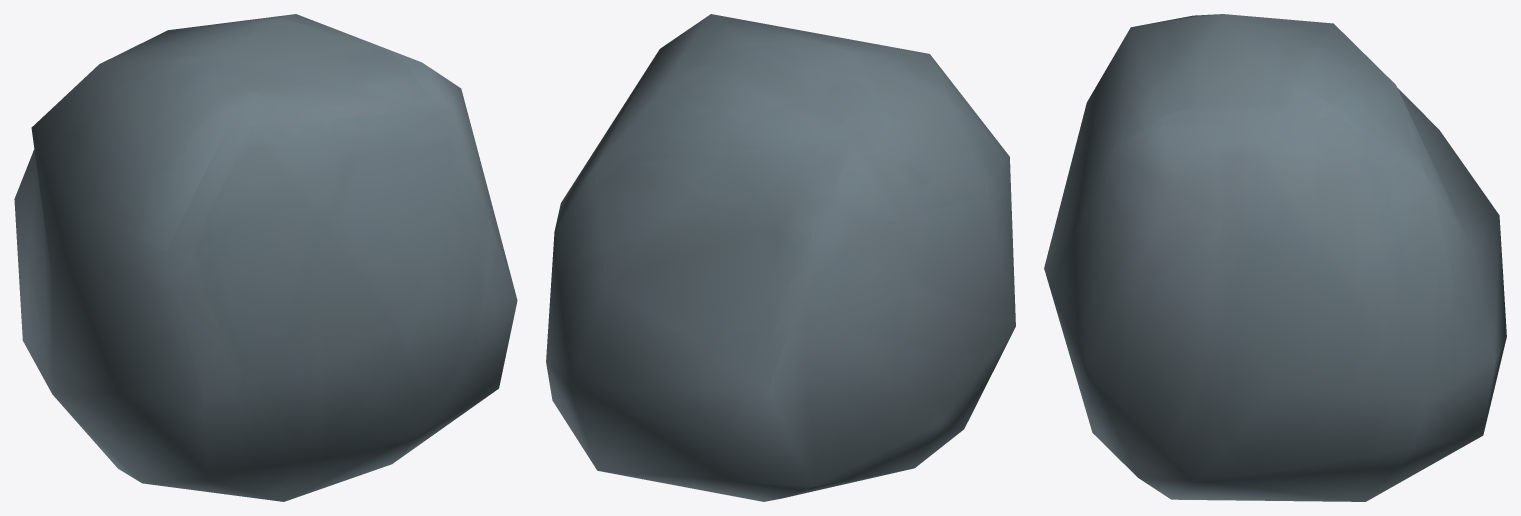
Rendered from Rock_03.fbx.
3 views of the same model, side by side, from view 1: azimuth 30°, elevation 25°; view 2: azimuth 150°, elevation 25°; view 3: azimuth 270°, elevation 25° (orthographic). The views are drawn at different scales.
Visible parts, largest first — view 1: Rock_03; view 2: Rock_03; view 3: Rock_03.
Part boxes in pixels (x1,y1,x2,y2): Rock_03: (14, 14, 517, 501); Rock_03: (546, 14, 1015, 501); Rock_03: (1044, 14, 1506, 501).
Bounding box in the file's own units: 92.72 × 94.68 × 94.15.
